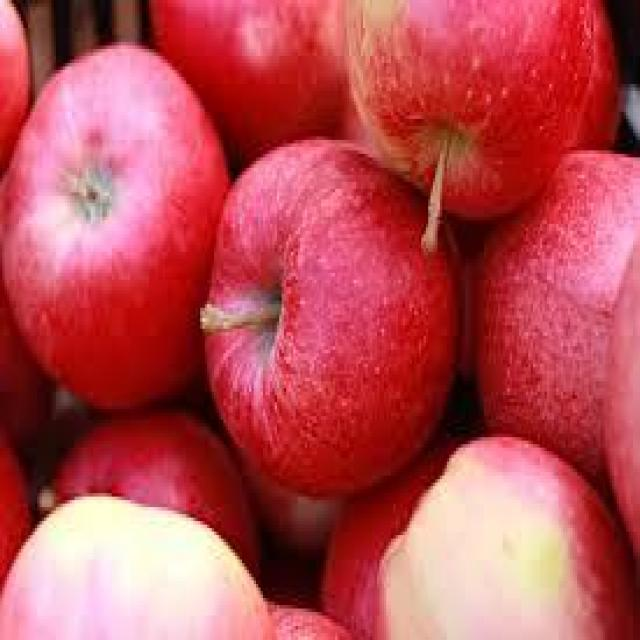maca: (0, 0, 638, 637), (198, 133, 461, 493)
